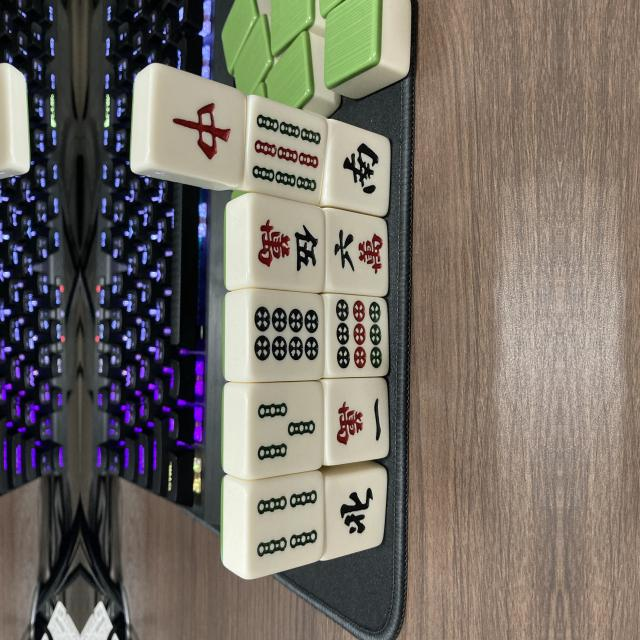1C: (327, 381, 387, 464)
3B: (249, 387, 323, 476)
4B: (250, 480, 325, 575)
5C: (251, 203, 324, 289)
6C: (328, 210, 388, 290)
8D: (250, 294, 326, 384)
9B: (244, 98, 326, 201)
9D: (327, 297, 387, 378)
NW: (328, 475, 387, 560)
RD: (148, 69, 252, 191)
SW: (324, 126, 389, 218)
